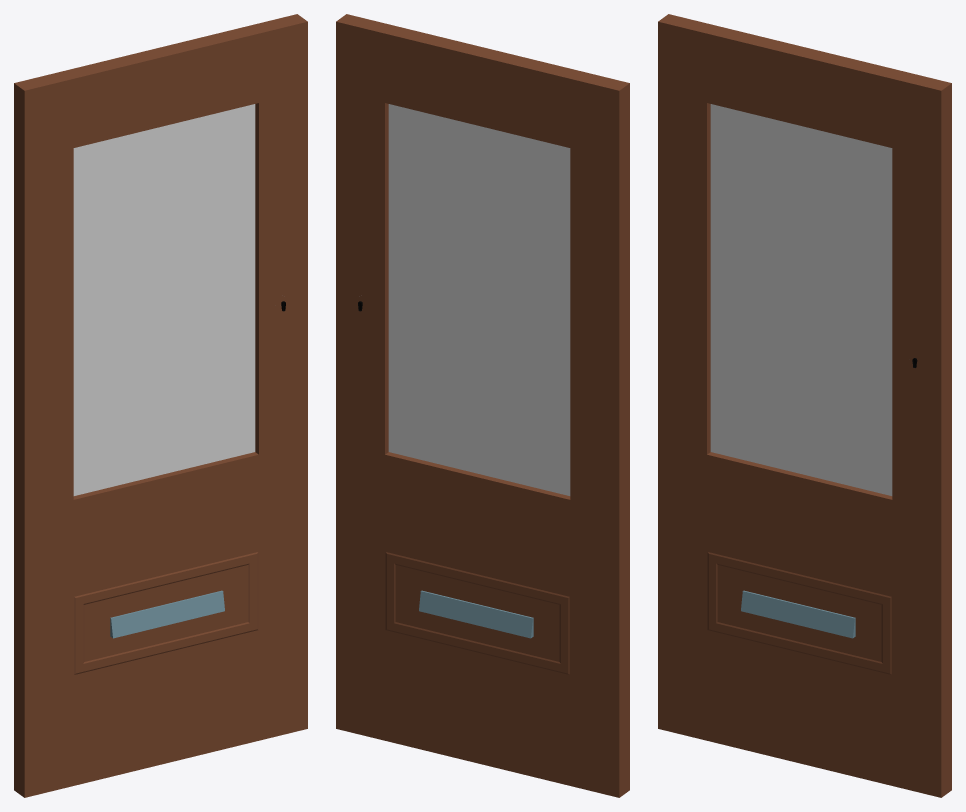
The model's file is Door07_WGlass.fbx.
The picture shows the model from 3 angles, left to right: view 1: azimuth 30°, elevation 25°; view 2: azimuth 150°, elevation 25°; view 3: azimuth 330°, elevation 25°; orthographic projection.
Parts seen in each view (by area): view 1: Door07_WGlass; view 2: Door07_WGlass; view 3: Door07_WGlass.
Boxes of the visible parts, box(x1,y1,x2,y2) form: Door07_WGlass: box(14, 14, 307, 797); Door07_WGlass: box(336, 14, 629, 797); Door07_WGlass: box(658, 14, 951, 797).
Size of the model in its own units: 78 by 186 by 7.75.
